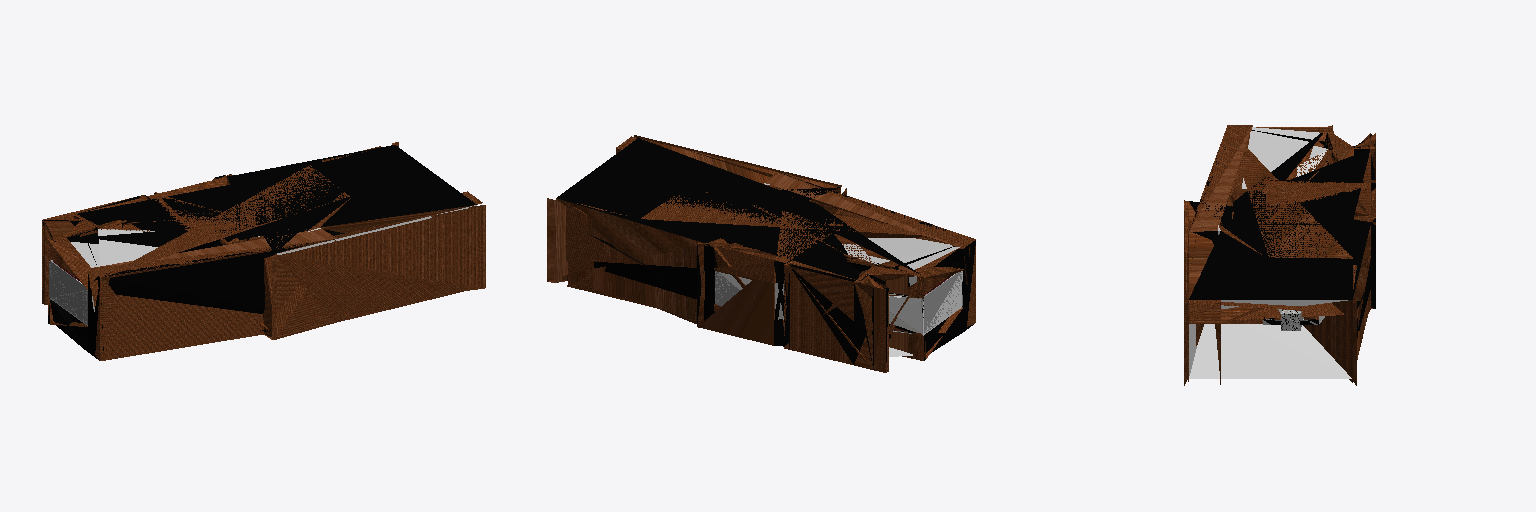
3 views of the same model, side by side, from view 1: azimuth 30°, elevation 25°; view 2: azimuth 150°, elevation 25°; view 3: azimuth 270°, elevation 25° (orthographic).
Visible parts, largest first — view 1: wood_primary, stove, bathroom_props, shower; view 2: wood_primary, stove, bathroom_props, shower, wall_solid_colors, frame_window; view 3: wood_primary, stove, bathroom_props.
Part boxes in pixels (x1,y1,x2,y2): wood_primary: (42, 142, 485, 360); stove: (42, 145, 476, 360); bathroom_props: (49, 205, 476, 297); shower: (49, 261, 87, 324); wood_primary: (547, 135, 975, 372); stove: (557, 138, 975, 369); bathroom_props: (842, 238, 962, 356); shower: (715, 271, 962, 333); wall_solid_colors: (775, 283, 921, 333); frame_window: (715, 271, 961, 334); wood_primary: (1184, 125, 1375, 385); stove: (1189, 130, 1375, 337); bathroom_props: (1189, 127, 1351, 378).
Bounding box in the file's own units: 54.68 × 12 × 24.91.
27 materials, 9 textured.